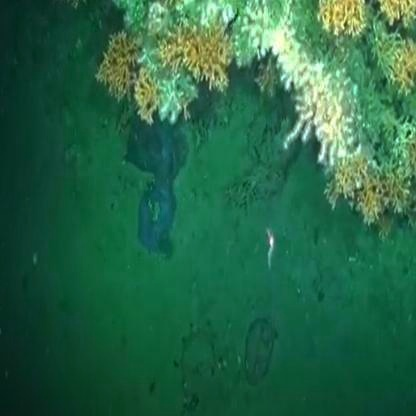plastic: (126, 119, 195, 262)
